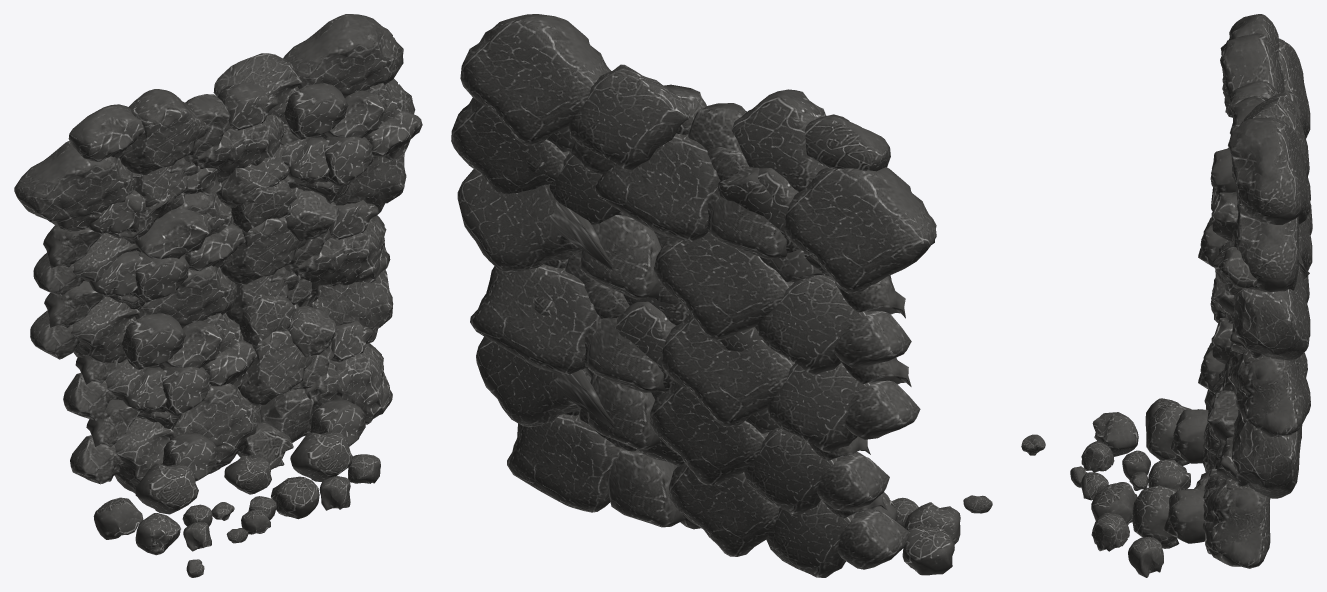
File: cave_collapse.fbx
3 views of the same model, side by side, from view 1: azimuth 30°, elevation 25°; view 2: azimuth 150°, elevation 25°; view 3: azimuth 270°, elevation 25° (orthographic). The views are drawn at different scales.
Visible parts, largest first — view 1: cave_collapse; view 2: cave_collapse; view 3: cave_collapse.
Boxes of the visible parts, x1=… form: cave_collapse: x1=14, y1=14, x2=422, y2=577; cave_collapse: x1=451, y1=14, x2=992, y2=577; cave_collapse: x1=1021, y1=14, x2=1312, y2=577.
Bounding box in the file's own units: 349 × 362 × 200.
Materials: 1 (1 with a texture image).
